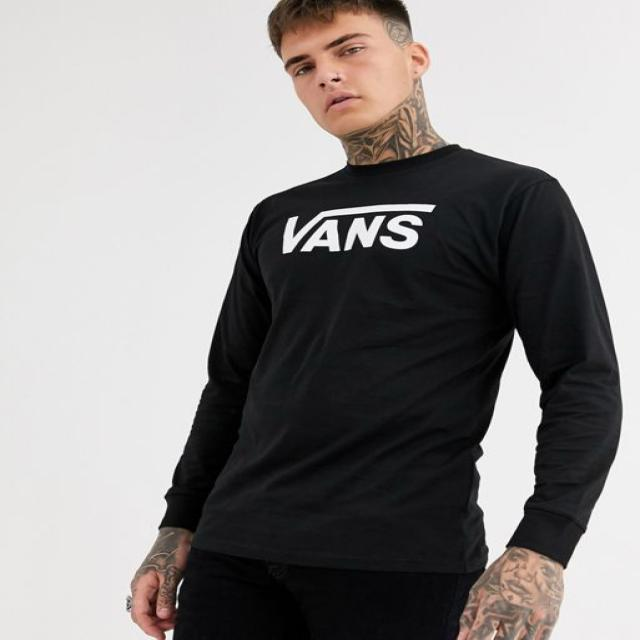tshirt: (160, 143, 621, 572)
